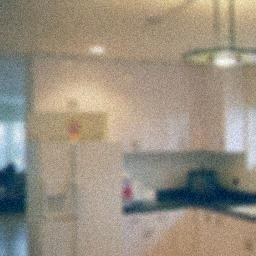Electrodomestico: (34, 143, 122, 255)
